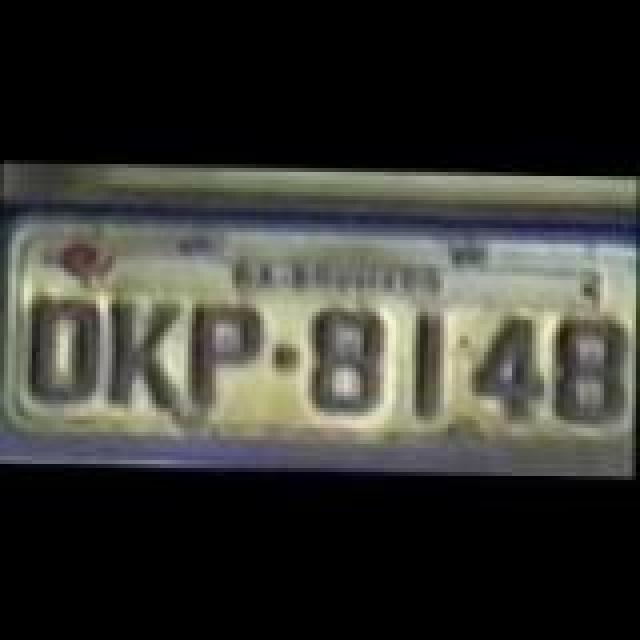1: (408, 306, 452, 422)
4: (474, 314, 546, 426)
8: (312, 304, 388, 420), (558, 312, 630, 424)
K: (110, 298, 190, 410)
O: (26, 298, 98, 414)
P: (196, 304, 264, 416)
